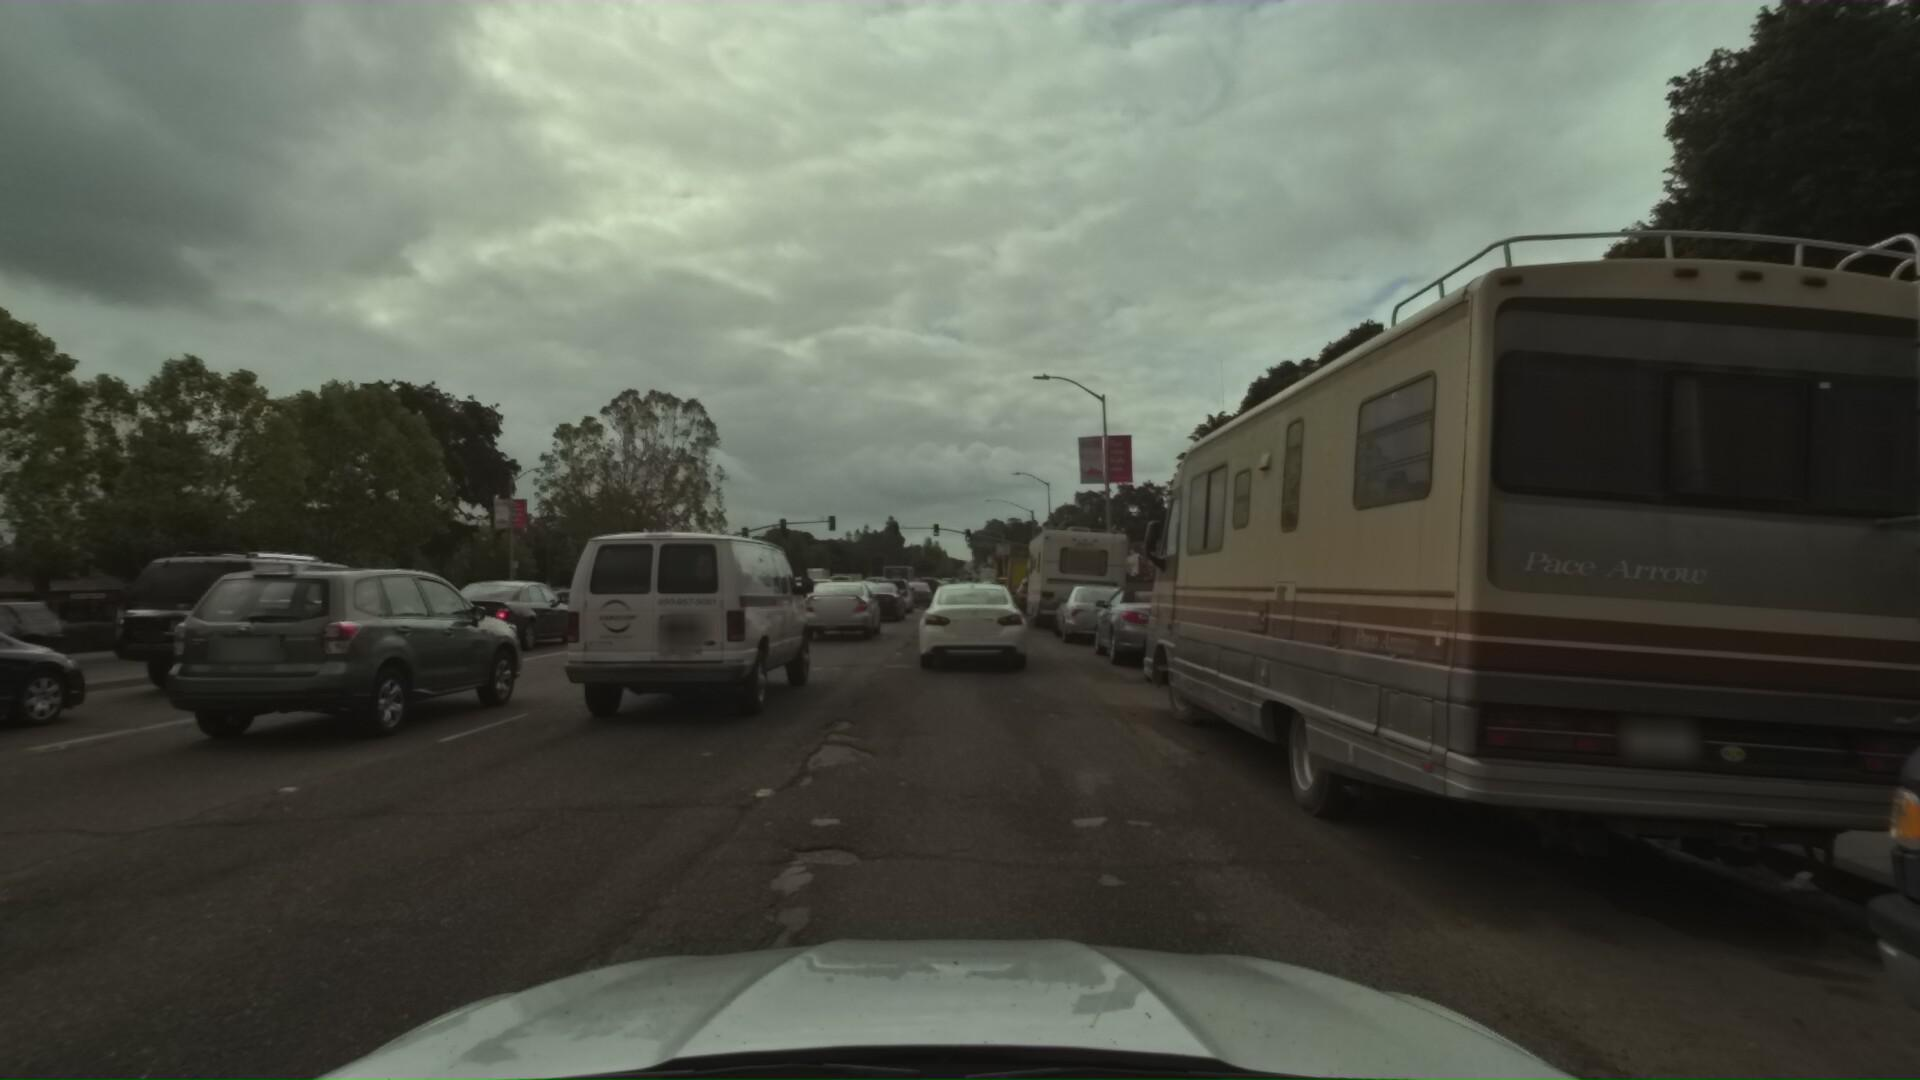car: (136, 555, 539, 760), (88, 555, 440, 715), (560, 518, 822, 733), (0, 579, 123, 808), (1137, 574, 1333, 709), (418, 572, 592, 655), (1091, 582, 1225, 680), (918, 578, 1029, 679), (1054, 579, 1147, 653), (563, 572, 670, 633), (927, 564, 1009, 640), (795, 575, 884, 644), (0, 591, 57, 687), (847, 578, 905, 622), (769, 582, 829, 622), (870, 574, 914, 612), (1013, 568, 1055, 607), (742, 575, 790, 607), (898, 578, 934, 608), (986, 572, 1029, 595), (823, 568, 858, 595), (910, 572, 938, 597), (857, 574, 886, 596)
other_vehicle: (1124, 142, 1920, 1011), (1023, 513, 1139, 632)
truck: (1002, 546, 1058, 605), (829, 566, 866, 593)
